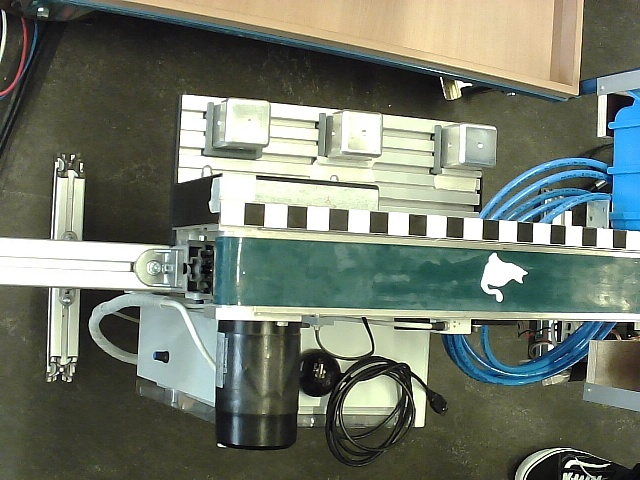cat: (480, 252, 529, 303)
